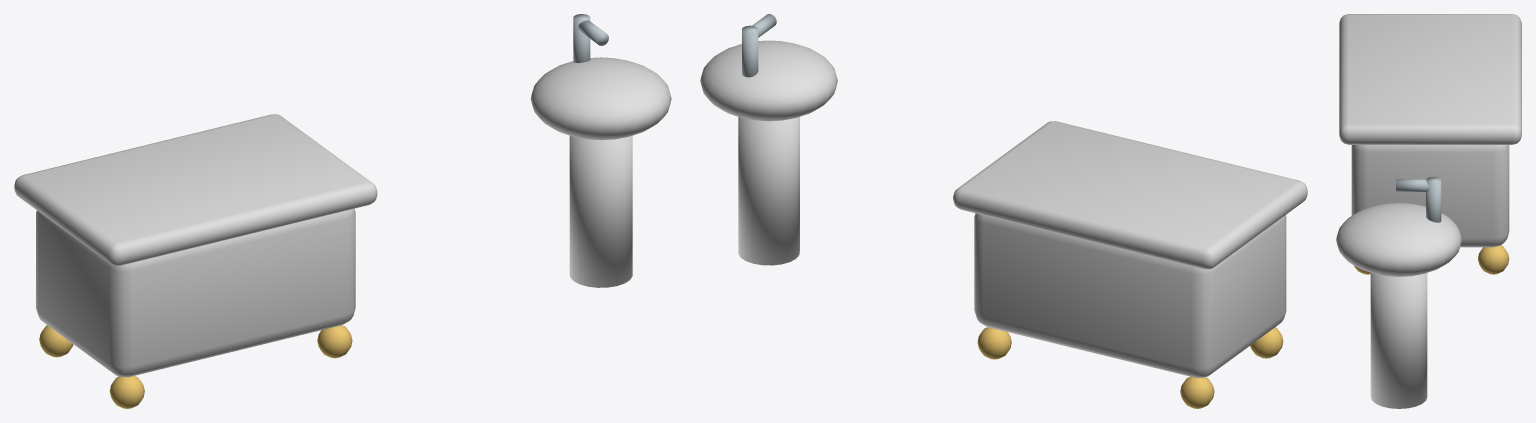
The model's file is room-banheiro.glb.
The picture shows the model from 3 angles, left to right: view 1: azimuth 30°, elevation 25°; view 2: azimuth 150°, elevation 25°; view 3: azimuth 270°, elevation 25°; orthographic projection. The views are drawn at different scales.
Visible parts, largest first — view 1: Tub, Sink; view 2: Tub, Sink; view 3: Tub, Sink.
Part boxes in pixels (<box>): Tub: <box>14,114,377,408</box>; Sink: <box>530,14,671,287</box>; Tub: <box>953,121,1307,408</box>; Sink: <box>700,14,837,265</box>; Tub: <box>1339,14,1521,274</box>; Sink: <box>1336,176,1461,408</box>.
Size of the model in its own units: 1.91 by 0.76 by 0.59.
